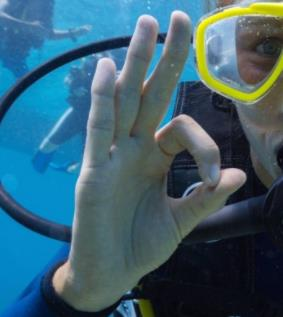left: (70, 8, 250, 286)
